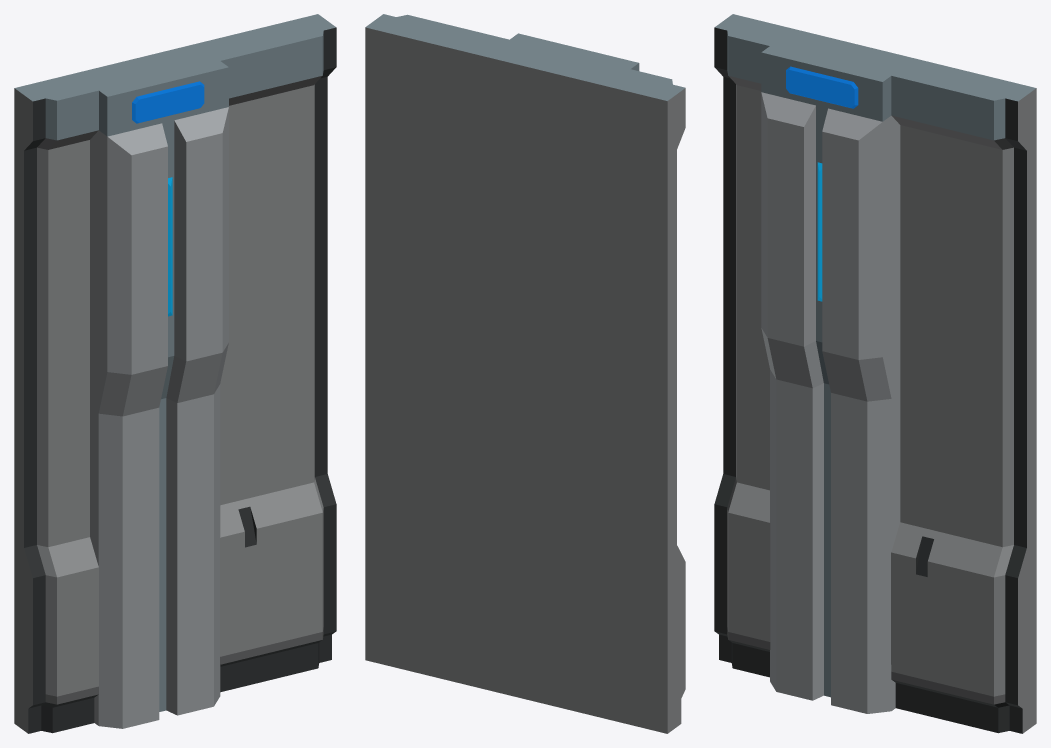
File: Wall_type_B_019.glb
3 renders of one model, left to right at view 1: azimuth 30°, elevation 25°; view 2: azimuth 150°, elevation 25°; view 3: azimuth 330°, elevation 25°, orthographic.
Parts seen in each view (by area): view 1: Wall_type_B_019; view 2: Wall_type_B_019; view 3: Wall_type_B_019.
Boxes of the visible parts, box(x1,y1,x2,y2) form: Wall_type_B_019: box(14, 14, 336, 733); Wall_type_B_019: box(365, 14, 685, 733); Wall_type_B_019: box(714, 14, 1036, 733).
Size of the model in its own units: 2 by 4 by 0.4698.
Materials: 2 (2 with a texture image).
